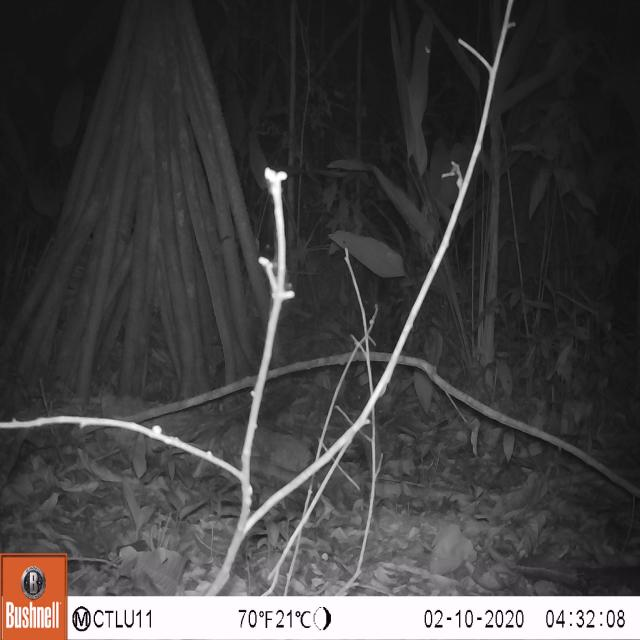Ocelote: (363, 239, 429, 424)
